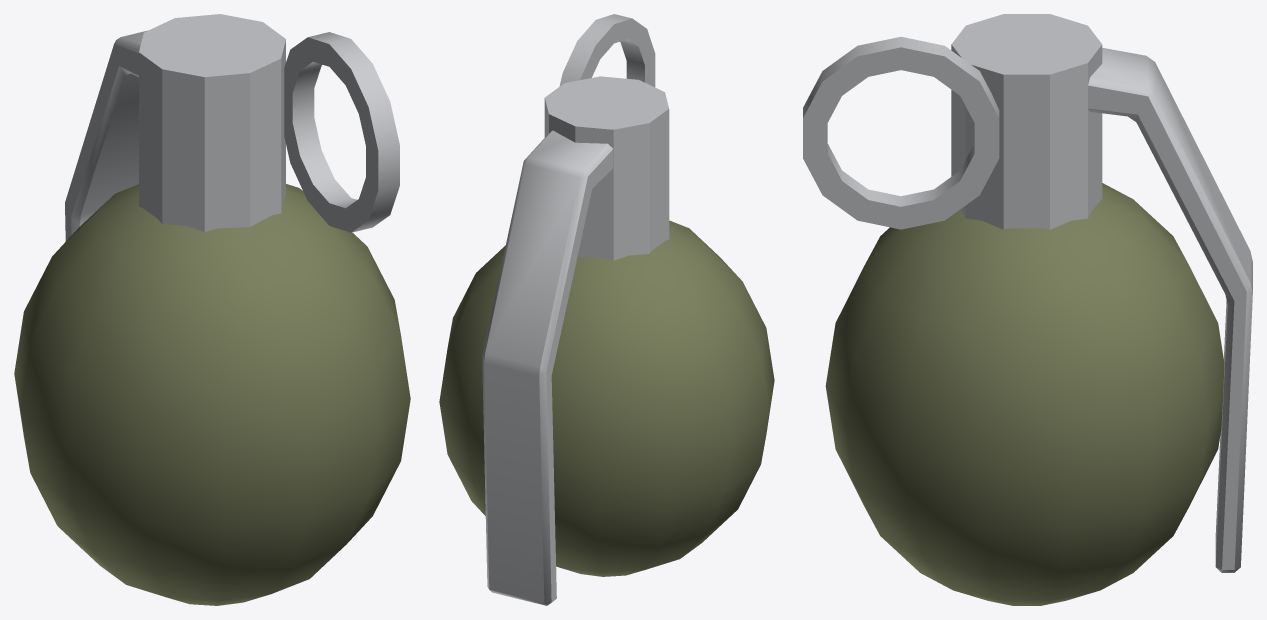
Rendered from grenade.glb.
The picture shows the model from 3 angles, left to right: view 1: azimuth 30°, elevation 25°; view 2: azimuth 150°, elevation 25°; view 3: azimuth 270°, elevation 25°; orthographic projection. The views are drawn at different scales.
Visible parts, largest first — view 1: grenade_mesh; view 2: grenade_mesh; view 3: grenade_mesh.
Part boxes in pixels (<box>): grenade_mesh: <box>14,14,410,605</box>; grenade_mesh: <box>439,14,774,605</box>; grenade_mesh: <box>803,14,1252,605</box>.
Bounding box in the file's own units: 0.0624 × 0.1018 × 0.0716.
